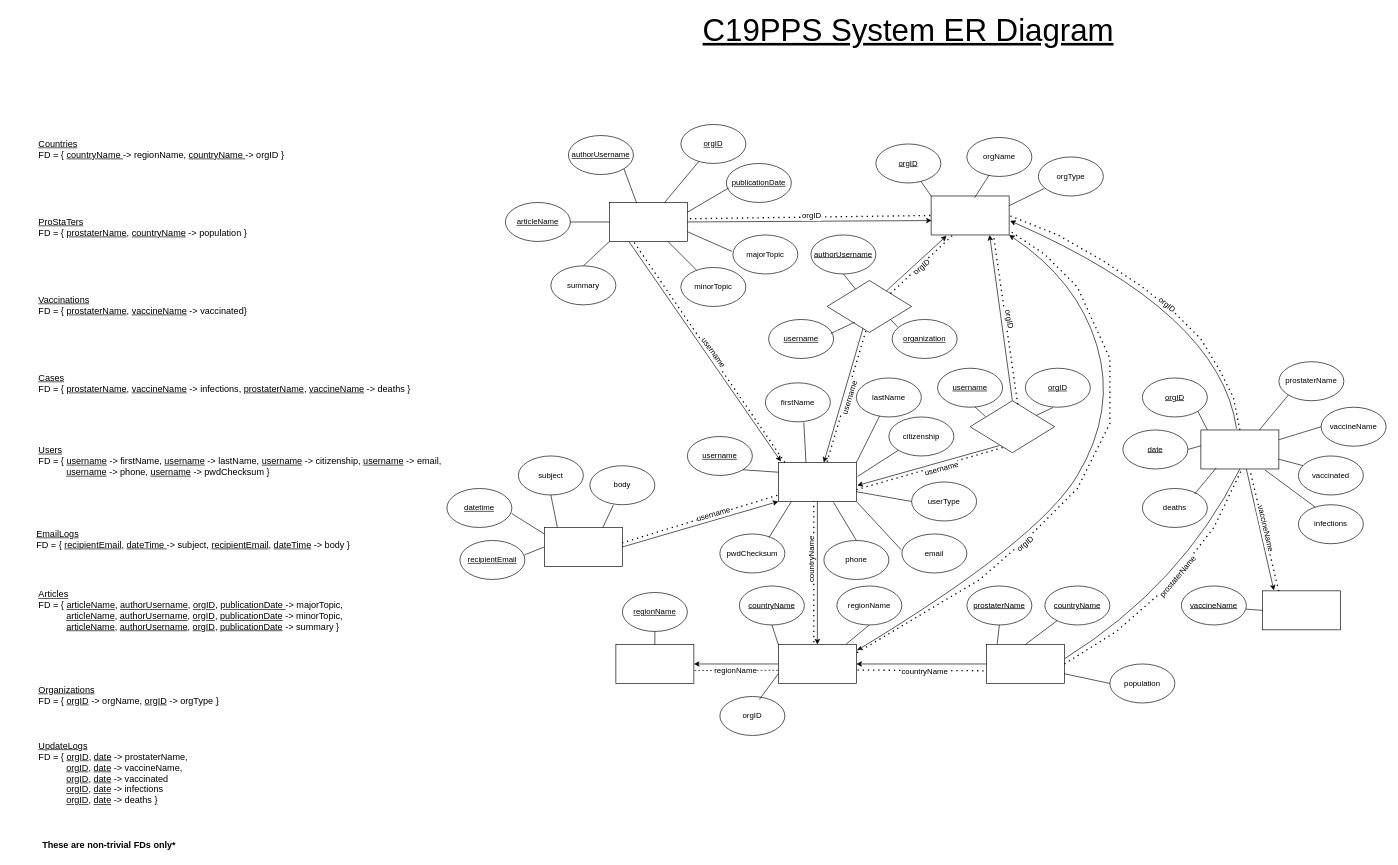
Some shapes in this 1398 by 865 pixel diagram are drawn without their labels. The shapes that lost their labels are listed below. From the top down, each one's box as (x1, y1, x2, y2) in pixels, then its label:
(609, 202, 687, 241): Articles
(930, 195, 1009, 235): Organizations
(826, 280, 912, 332): Subscriptions
(969, 400, 1055, 453): Employees
(1200, 429, 1279, 469): Reports
(778, 462, 856, 501): Users
(544, 527, 622, 566): Emails Logs
(1262, 590, 1341, 630): Vaccines
(615, 644, 694, 683): Regions
(778, 644, 856, 683): Countries
(986, 644, 1064, 683): ProStaTer
